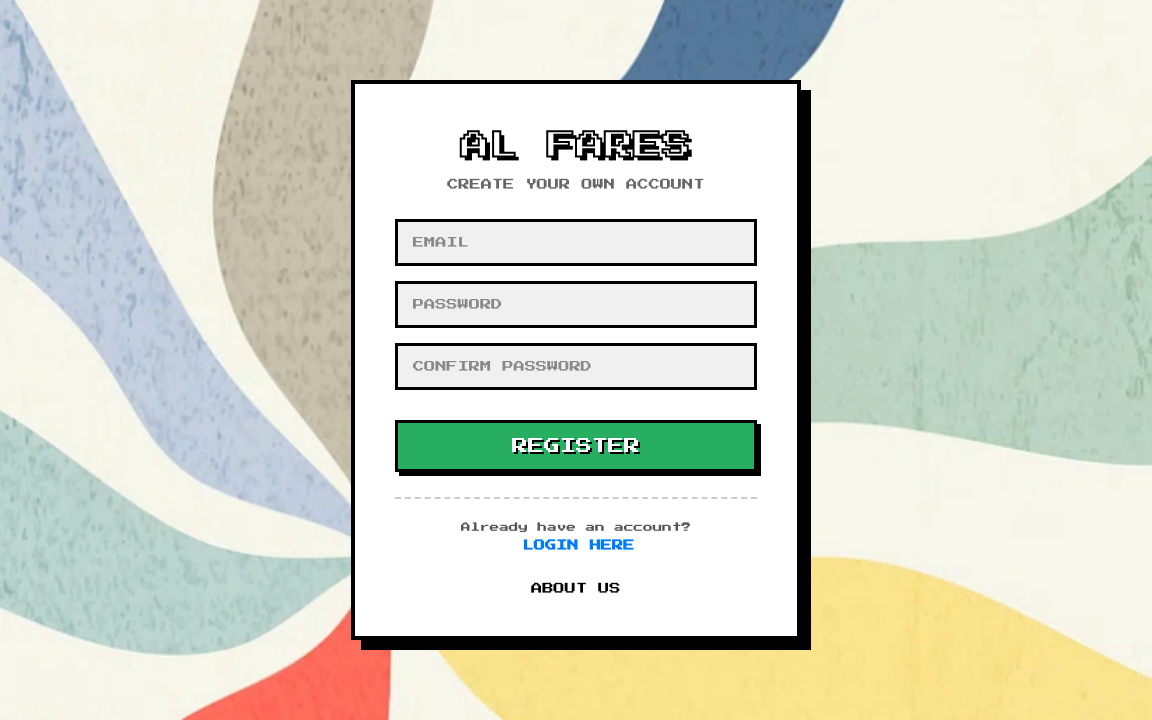
Scenario: SignUpForm Component Tests › shows success message on valid registration
This screenshot has width=1152, height=720.
Note: Fill form correctly
Type "wezza@test.com" into the field with placeholder "EMAIL" at [576, 242], box [395, 219, 757, 266]
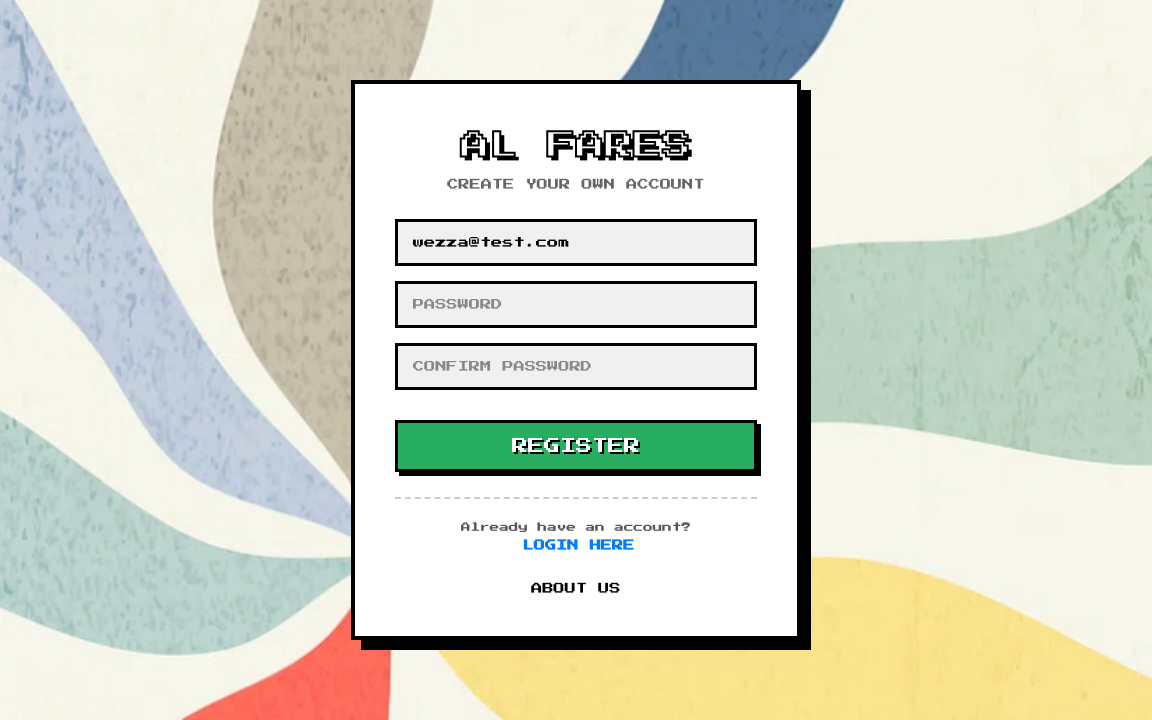
Type "123456" into the password field with placeholder "PASSWORD" at [576, 304], box [395, 281, 757, 328]
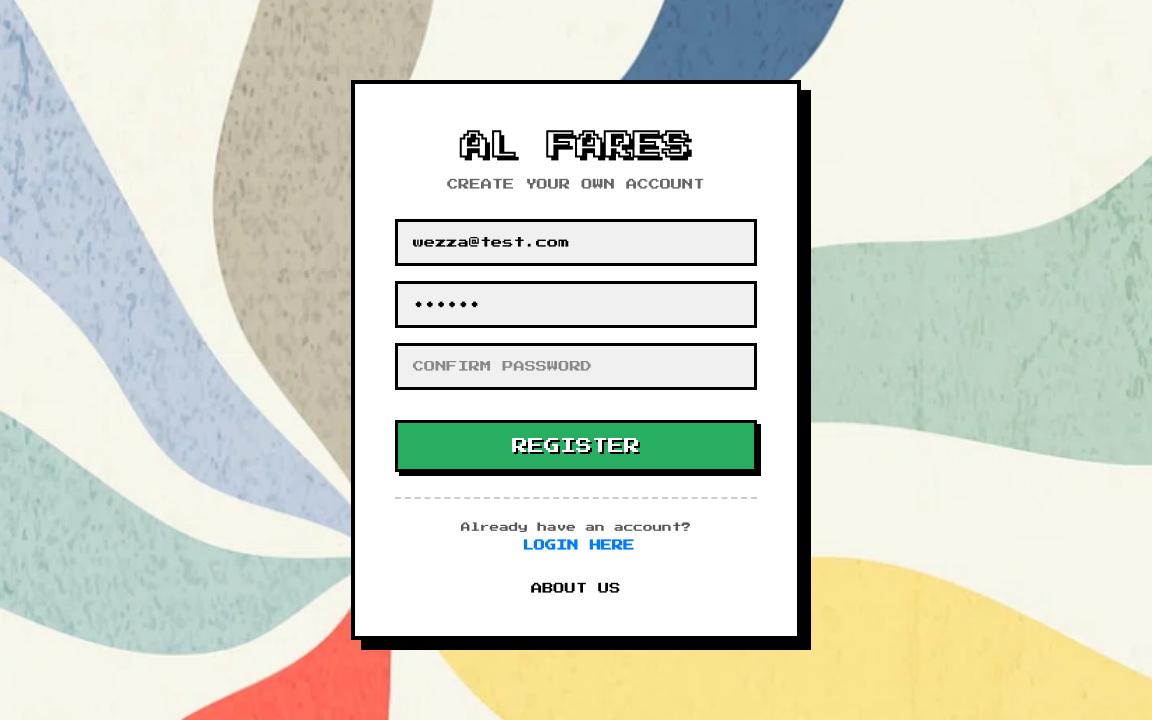
Type "123456" into the password field with placeholder "CONFIRM PASSWORD" at [576, 366], box [395, 343, 757, 390]
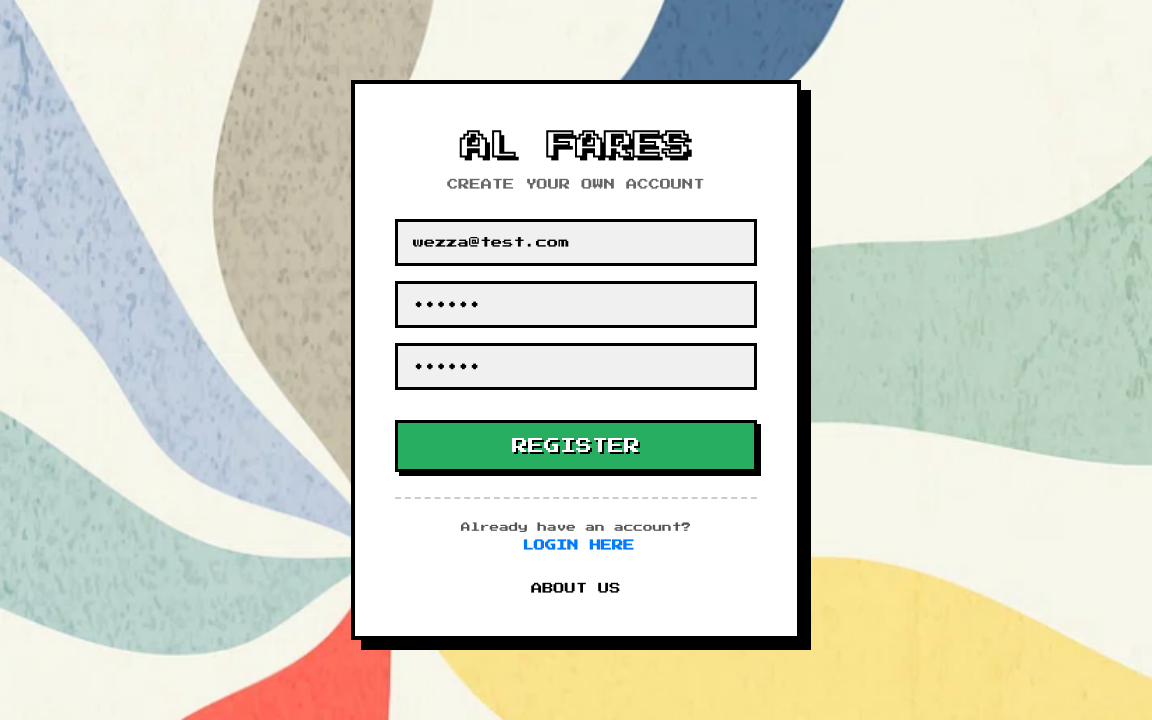
Click the button "REGISTER" at [576, 446], box [395, 420, 757, 472]
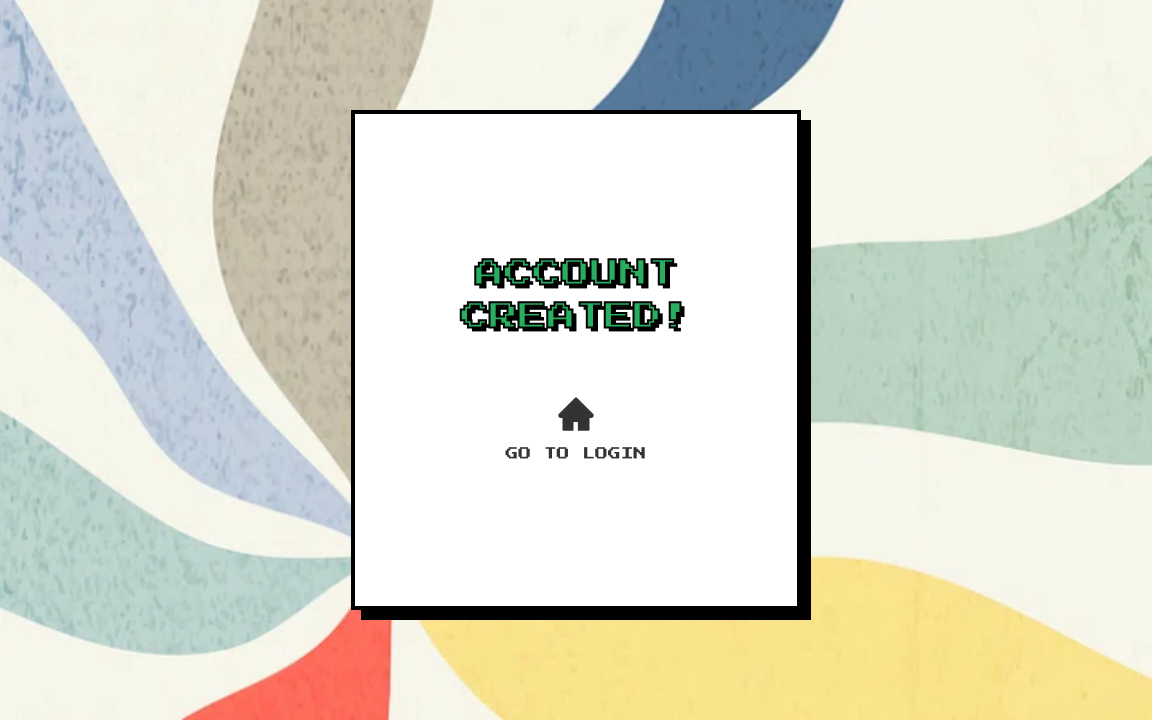
Expected: the heading "ACCOUNT CREATED!" is shown, [461, 259, 691, 331]
